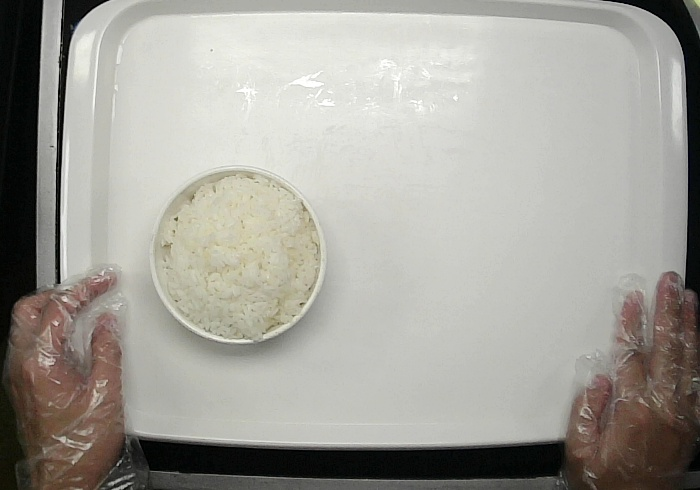HZYJPL-Fan_Wan: (149, 161, 327, 345)
